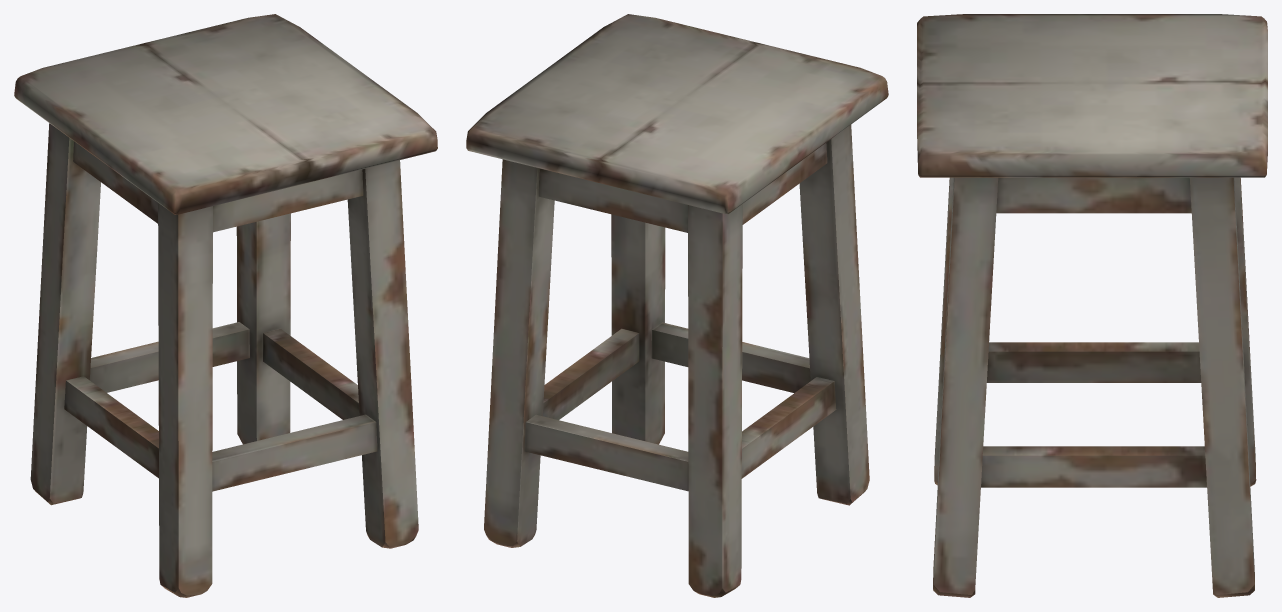
The model's file is stool.glb.
3 views of the same model, side by side, from view 1: azimuth 30°, elevation 25°; view 2: azimuth 150°, elevation 25°; view 3: azimuth 270°, elevation 25° (orthographic). The views are drawn at different scales.
Visible parts, largest first — view 1: painted_wooden_stool; view 2: painted_wooden_stool; view 3: painted_wooden_stool.
Boxes of the visible parts, left/top/right/bottom form: painted_wooden_stool: left=14, top=14, right=437, bottom=597; painted_wooden_stool: left=466, top=14, right=888, bottom=597; painted_wooden_stool: left=917, top=14, right=1267, bottom=597.
Size of the model in its own units: 0.384 by 0.5769 by 0.4049.
Materials: 1 (1 with a texture image).
